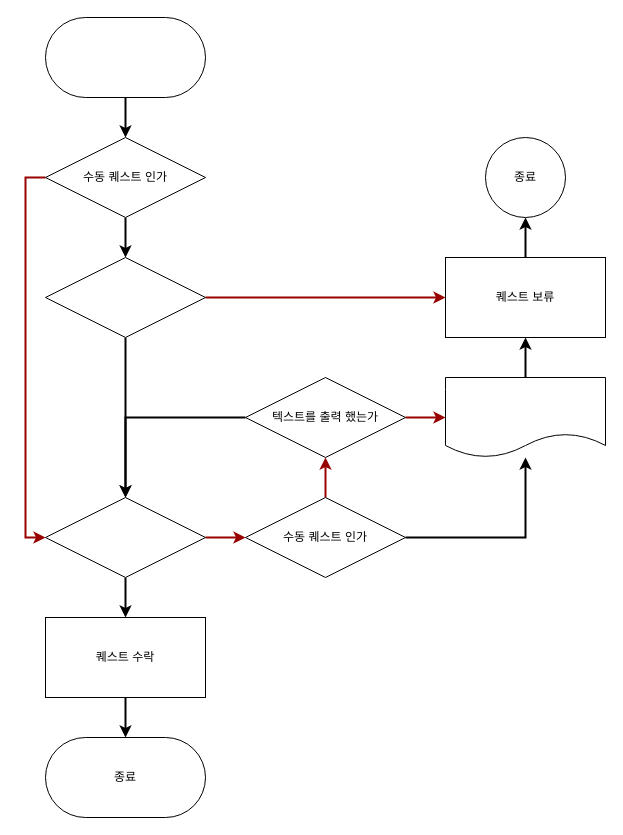
The diagram is 623 pixels wide and 835 high, and some of its shapes have lost their labels. Here are the shapes that lost their labels. From the top down, the box of each, then its label:
(44, 16, 206, 98): 퀘스트 수락 시작
(44, 256, 206, 338): 수락한다.
(444, 376, 606, 458): '더 이상 퀘스트를 수락할 수 없습니다.' 텍스트 출력
(44, 496, 206, 578): 현재 수행중 퀘스트가 최대치가 아닌가
